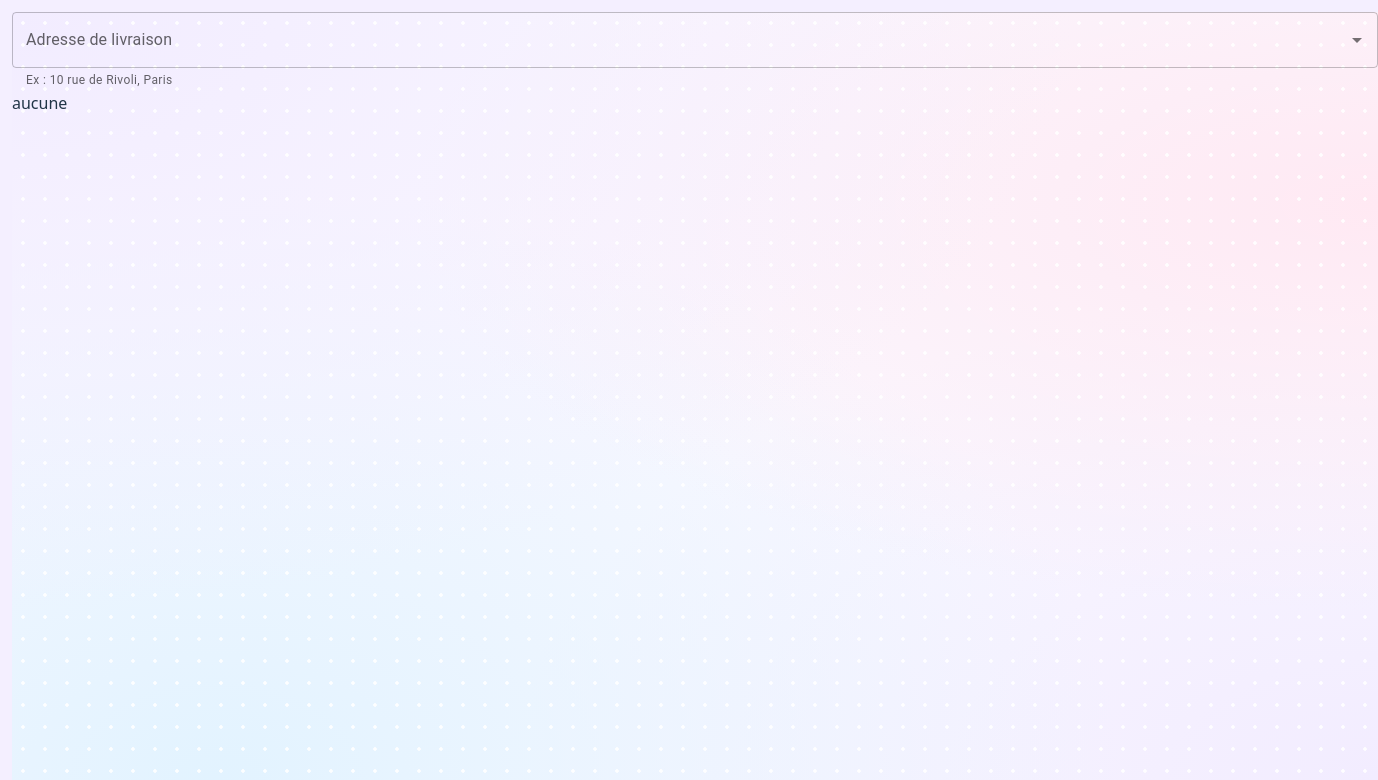
Scenario: AddressAutocomplete › affiche un message si le service d’adresses est indisponible
This screenshot has width=1378, height=780.
Type "10 rue" into the dropdown labelled "Adresse de livraison" at coordinates (680, 40), box [21, 21, 1339, 59]
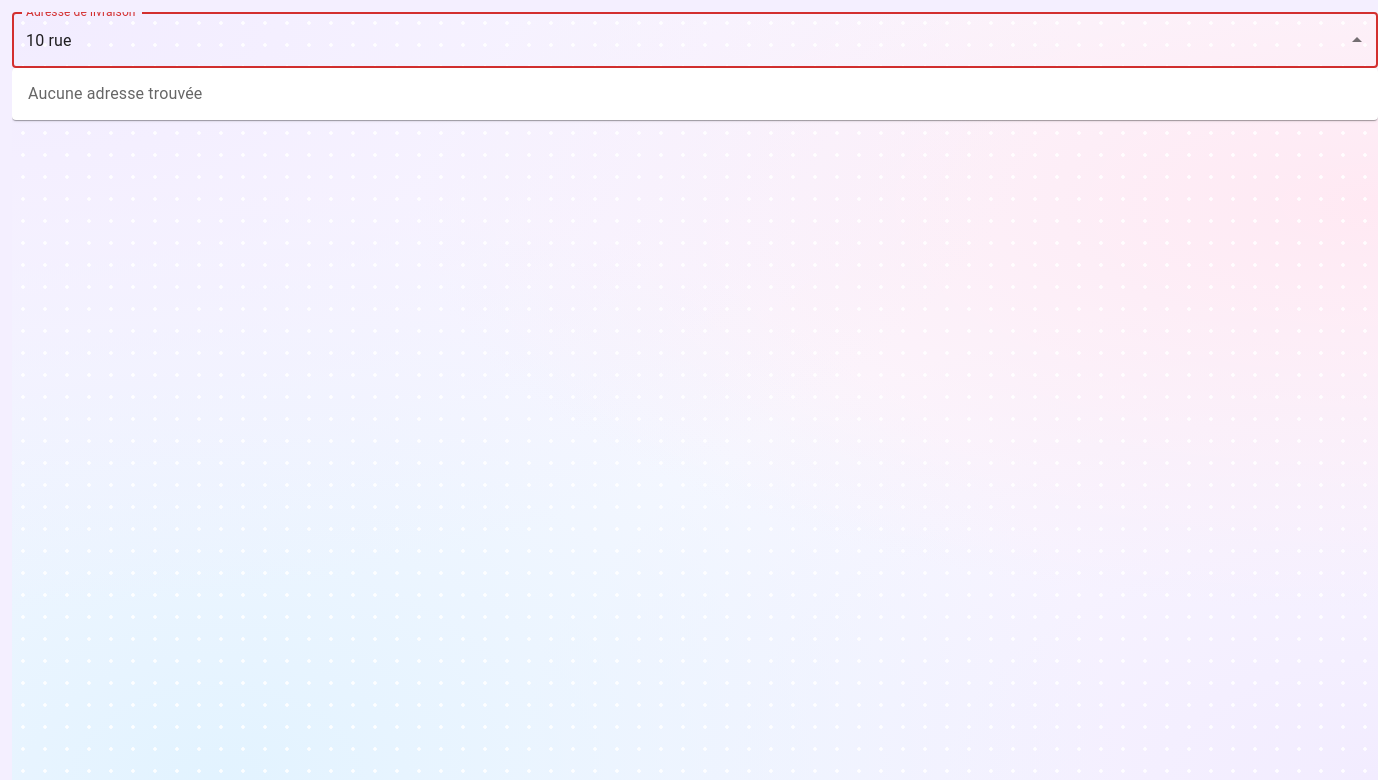
expect the text "Service d’adresses indisponible" is shown: met, box [26, 73, 409, 87]
